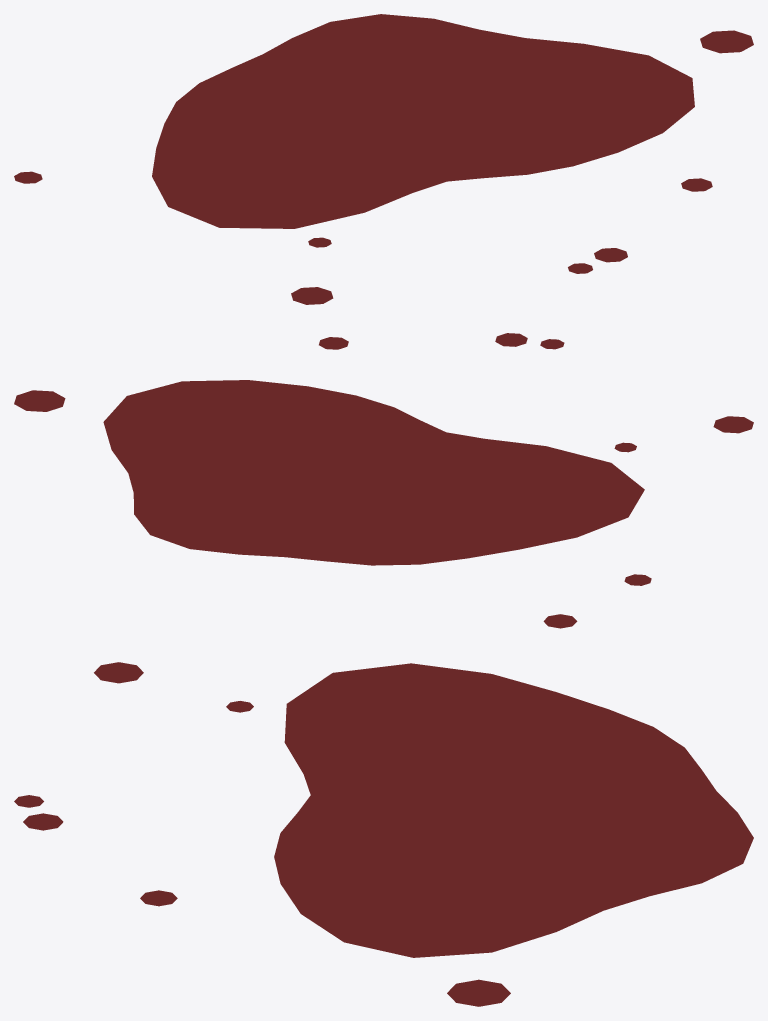
File: decal_blood.glb
The picture shows the model from 3 angles, top to bottom: view 1: azimuth 30°, elevation 25°; view 2: azimuth 150°, elevation 25°; view 3: azimuth 270°, elevation 25°; orthographic projection. The views are drawn at different scales.
Parts seen in each view (by area): view 1: decal_blood; view 2: decal_blood; view 3: decal_blood.
Part boxes in pixels (bbox=[...]): decal_blood: bbox=[14, 14, 753, 304]; decal_blood: bbox=[14, 333, 753, 585]; decal_blood: bbox=[14, 614, 753, 1006].
Bounding box in the file's own units: 1.08 × 0 × 0.8614.
